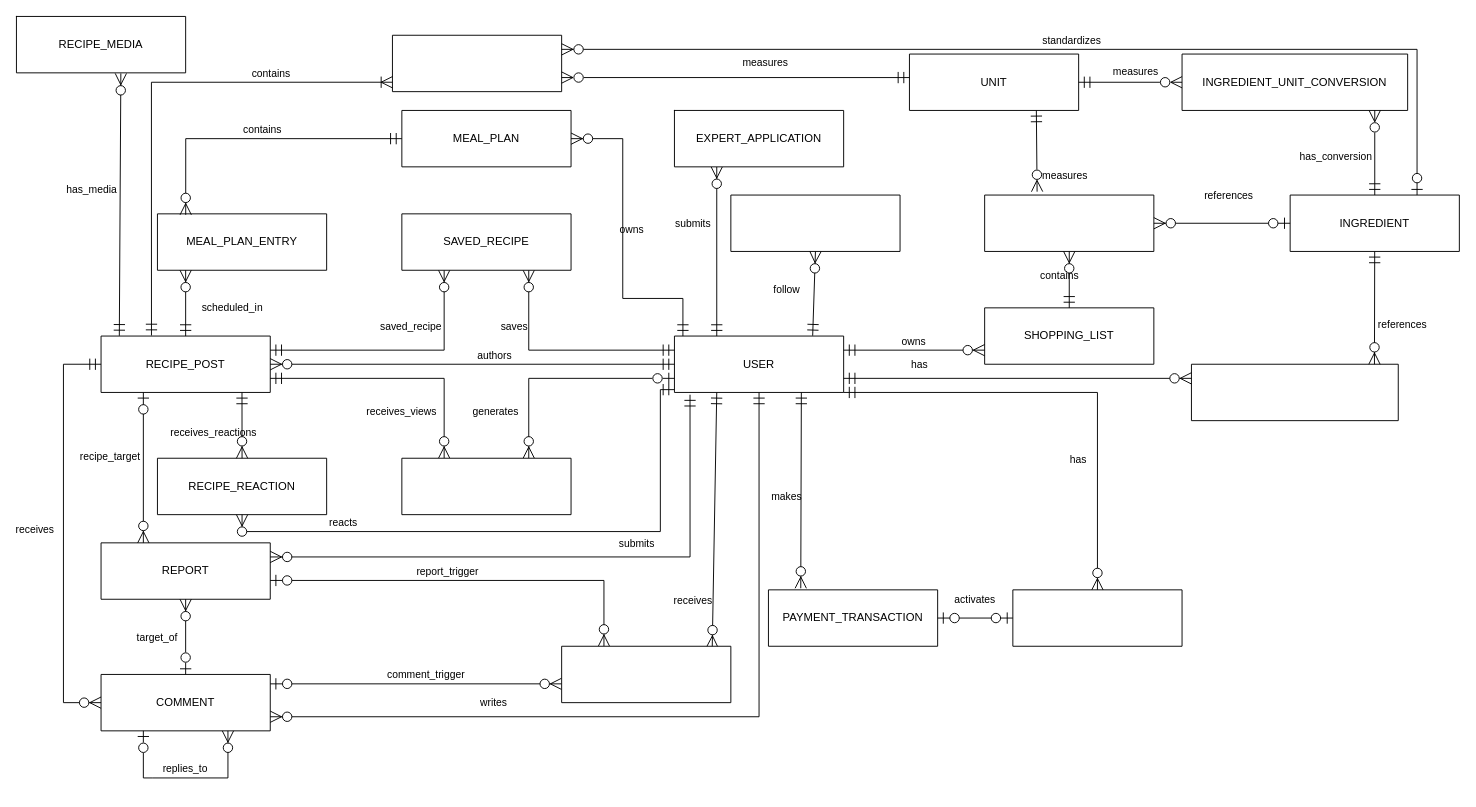
The diagram is 1476 pixels wide and 807 high, and some of its shapes have lost their labels. The shapes that lost their labels are listed below. From the top down, each one's centre as x and y in pixels, then its label:
At (x=477, y=63): "RECIPE_INGREDIENT".
At (x=815, y=222): "USER_FOLLOW".
At (x=1069, y=222): "SHOPPING_LIST_ITEM".
At (x=1294, y=392): "USER_INGREDIENT_PREFERENCE".
At (x=486, y=486): "RECIPE_VIEW".
At (x=1097, y=617): "SUBSCRIPTION".
At (x=646, y=674): "NOTIFICATION".
